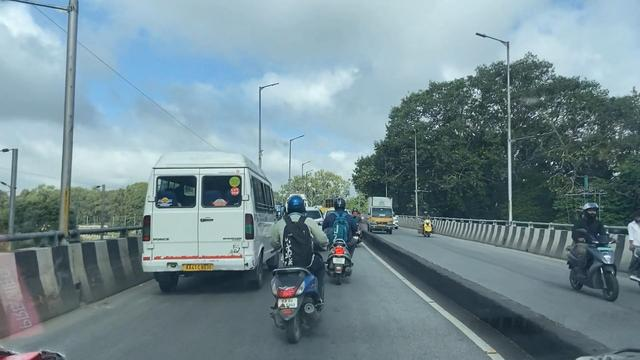HMV: (147, 157, 271, 287)
LMV: (276, 191, 321, 347), (327, 197, 361, 294)
